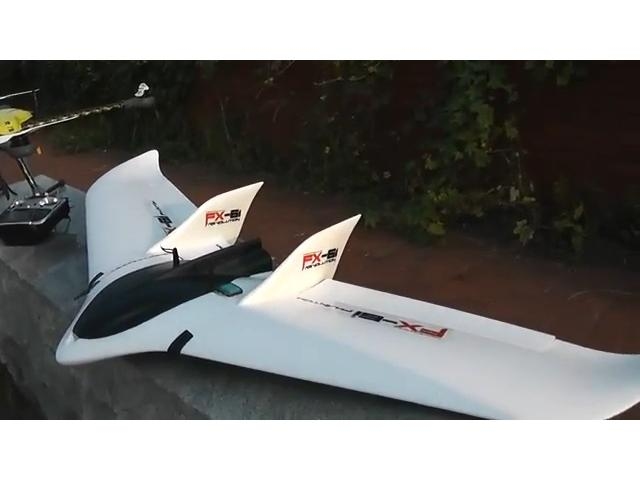Anti-Drone: (38, 130, 640, 419)
